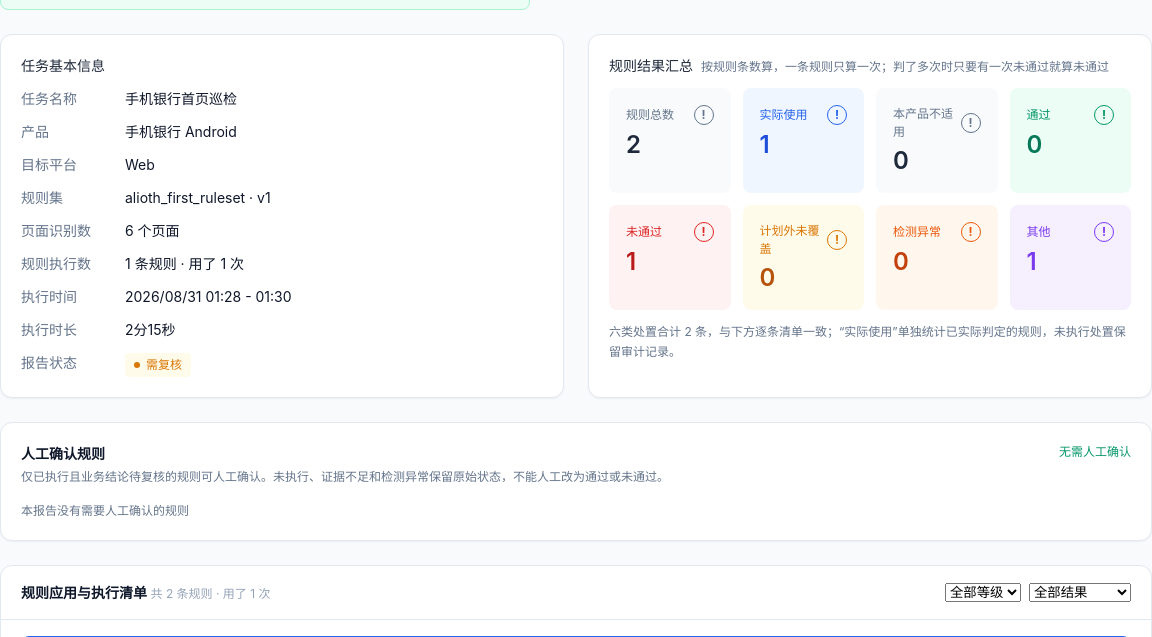
Scenario: ReportCenterView 报告详情 › 真实失败和未执行记录在详情分区，未执行规则不进入未通过筛选
Click the button with test id "tile-failed".
click(670, 258)  # box [609,205,730,310]
(page scrolled)
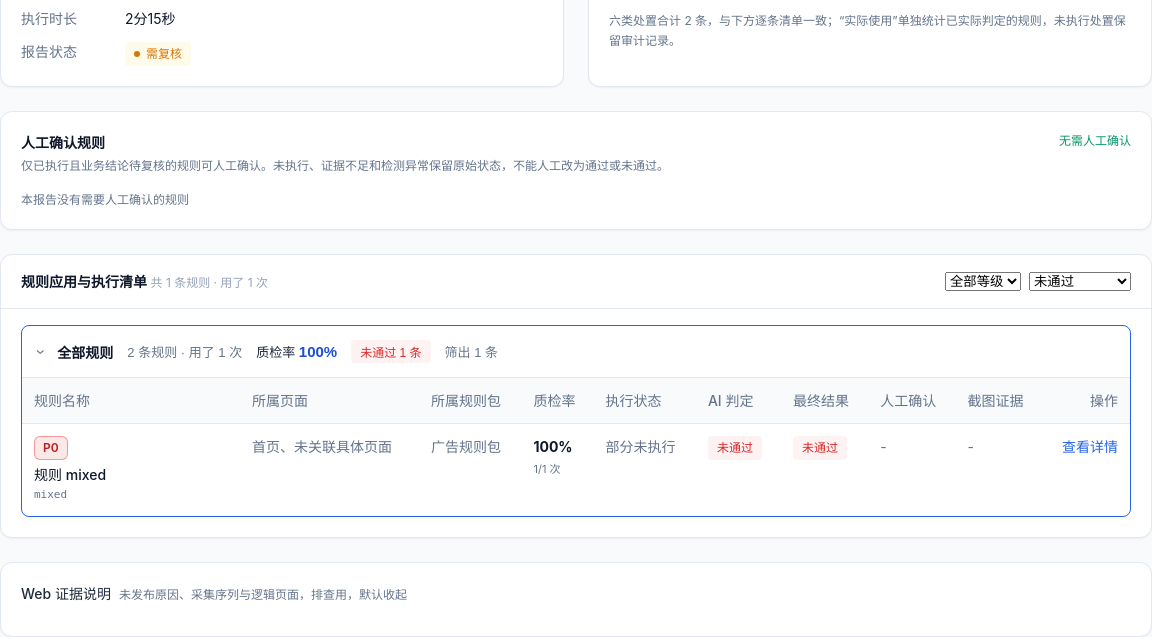
Click the button with test id "rule-detail-mixed".
click(1090, 446)  # box [1062,436,1118,457]
(page scrolled)
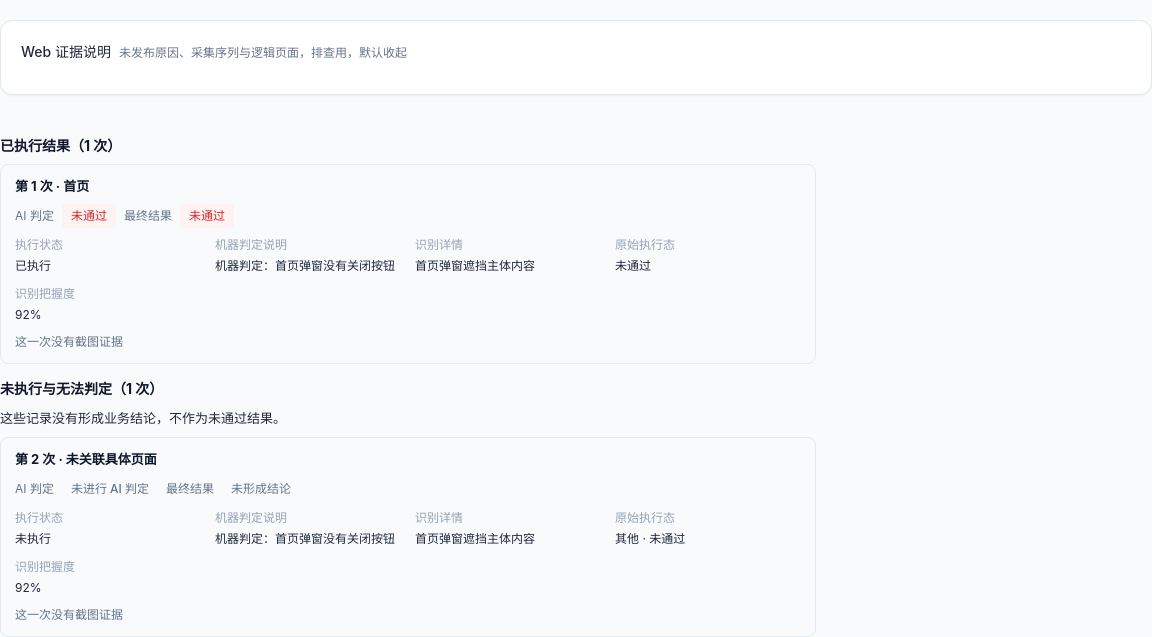
Expected: the element with test id "rule-usage-group-executed" shows "未通过", [71,208,107,223]
Expected: the element with test id "rule-usage-group-undecidable" shows "未关联具体页面", [15,451,157,467]
Expected: the list item with test id "rule-usage-gap-attempt" is shown, [0,437,816,636]
